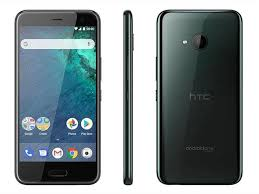htc: (11, 7, 101, 187), (154, 5, 244, 185)
